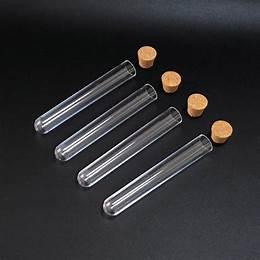Test tube: (36, 33, 232, 217)
